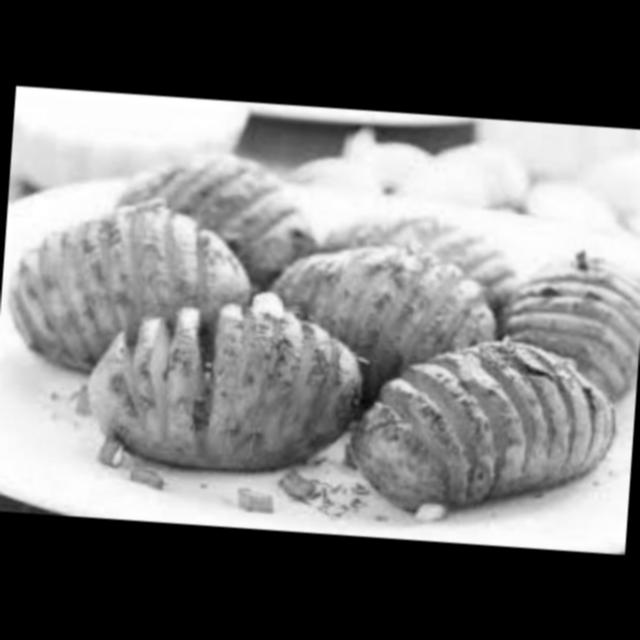potato: (70, 292, 377, 487), (337, 327, 626, 525), (0, 183, 270, 374), (244, 229, 518, 371), (97, 140, 324, 278), (304, 202, 521, 326), (493, 242, 640, 393)
